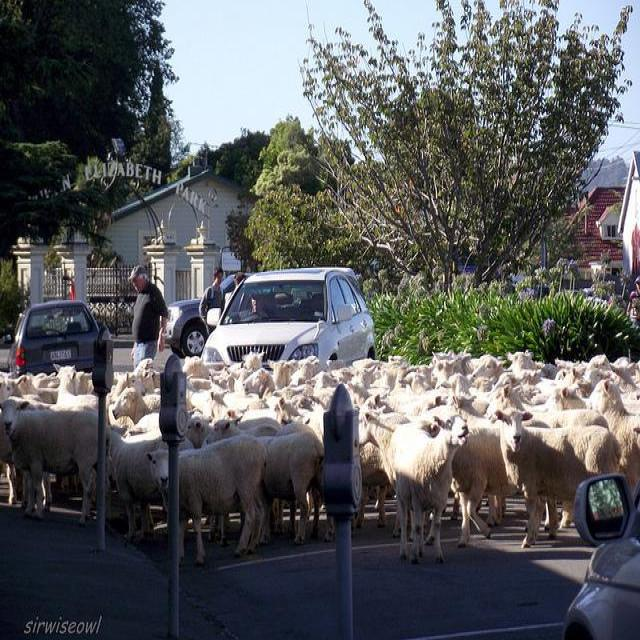Sheep: (1, 294, 639, 558), (494, 408, 623, 549), (146, 434, 268, 566), (0, 398, 99, 526), (389, 411, 470, 565), (585, 378, 639, 502), (487, 386, 608, 431)
